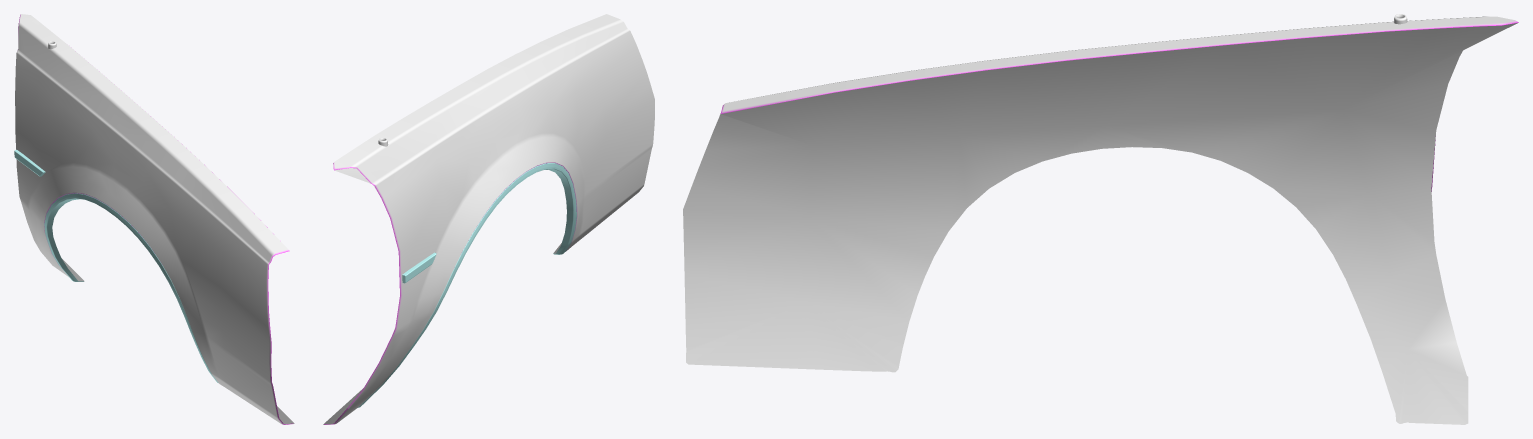
The model's file is Car_Buick_GrandNational_1987_FenderFR_SetE.fbx.
The picture shows the model from 3 angles, left to right: view 1: azimuth 30°, elevation 25°; view 2: azimuth 150°, elevation 25°; view 3: azimuth 270°, elevation 25°; orthographic projection. The views are drawn at different scales.
Parts seen in each view (by area): view 1: FenderFR 6; view 2: FenderFR 6; view 3: FenderFR 6.
Boxes of the visible parts, box(x1,y1,x2,y2) form: FenderFR 6: box(14, 14, 294, 424); FenderFR 6: box(323, 14, 654, 424); FenderFR 6: box(683, 14, 1518, 424).
Bounding box in the file's own units: 0.2035 × 0.7254 × 1.42.
